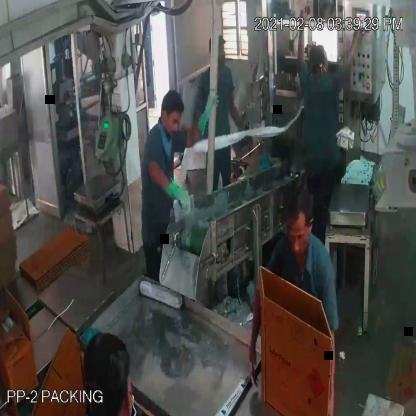glove: (144, 156, 193, 216), (172, 92, 218, 148)
no_glove: (245, 268, 261, 396)
